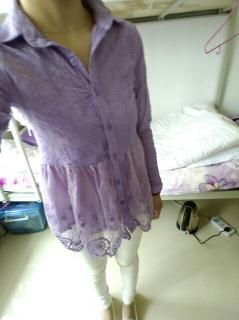long sleeve top: (0, 0, 163, 260)
trousers: (62, 178, 146, 309)
